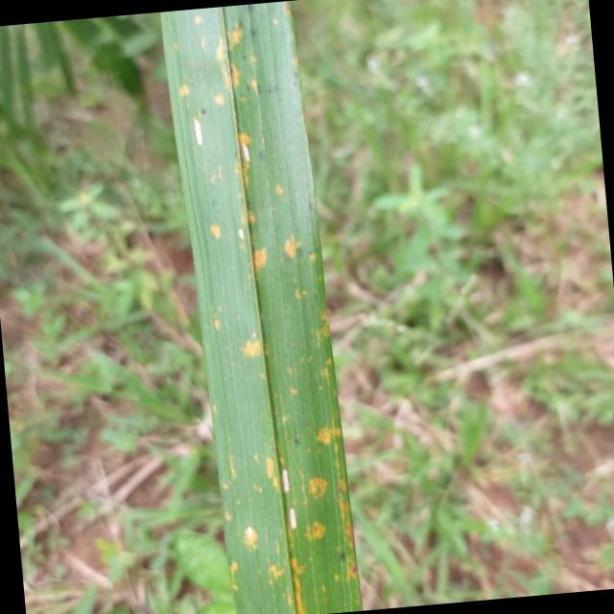Kalium: (158, 5, 368, 612)
